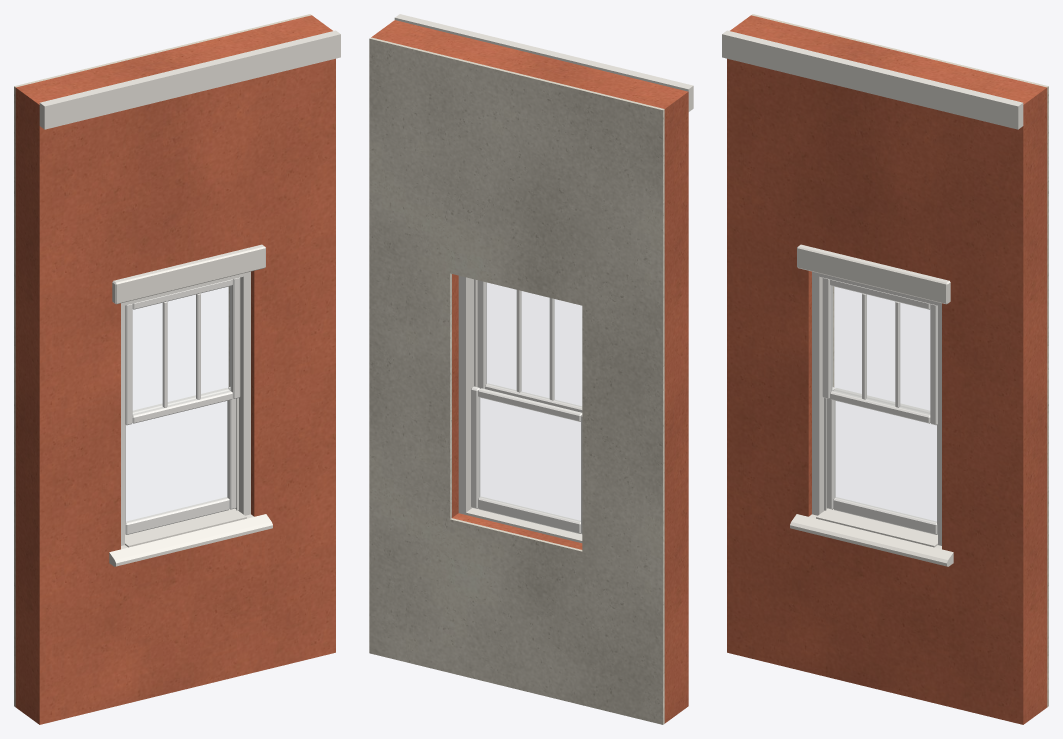
Rendered from wall_render_shop_window.glb.
The picture shows the model from 3 angles, left to right: view 1: azimuth 30°, elevation 25°; view 2: azimuth 150°, elevation 25°; view 3: azimuth 330°, elevation 25°; orthographic projection.
Parts seen in each view (by area): view 1: wall_render_shop_window_render, wall_render_shop_window_trim, folha_glass, wall_render_shop_window_glass, wall_render_shop_window_sash, wall_render_shop_window_frame, folha_sash, wall_render_shop_window_plaster; view 2: wall_render_shop_window_plaster, wall_render_shop_window_render, folha_glass, wall_render_shop_window_glass, folha_sash, wall_render_shop_window_frame, wall_render_shop_window_trim, wall_render_shop_window_sash; view 3: wall_render_shop_window_render, wall_render_shop_window_trim, folha_glass, wall_render_shop_window_glass, wall_render_shop_window_sash, wall_render_shop_window_frame, folha_sash, wall_render_shop_window_plaster.
Boxes of the visible parts, bbox=[...] form: wall_render_shop_window_render: bbox=[15, 15, 335, 724]; wall_render_shop_window_trim: bbox=[39, 30, 340, 566]; folha_glass: bbox=[126, 401, 227, 521]; wall_render_shop_window_glass: bbox=[133, 286, 231, 414]; wall_render_shop_window_sash: bbox=[125, 277, 240, 425]; wall_render_shop_window_frame: bbox=[121, 271, 250, 545]; folha_sash: bbox=[125, 387, 236, 534]; wall_render_shop_window_plaster: bbox=[14, 14, 311, 706]; wall_render_shop_window_plaster: bbox=[369, 37, 664, 724]; wall_render_shop_window_render: bbox=[371, 20, 688, 723]; folha_glass: bbox=[479, 398, 580, 521]; wall_render_shop_window_glass: bbox=[486, 283, 581, 406]; folha_sash: bbox=[471, 386, 582, 534]; wall_render_shop_window_frame: bbox=[458, 275, 477, 514]; wall_render_shop_window_trim: bbox=[394, 14, 693, 542]; wall_render_shop_window_sash: bbox=[477, 280, 582, 412]; wall_render_shop_window_render: bbox=[727, 15, 1047, 724]; wall_render_shop_window_trim: bbox=[722, 30, 1023, 566]; folha_glass: bbox=[835, 401, 936, 521]; wall_render_shop_window_glass: bbox=[831, 286, 929, 414]; wall_render_shop_window_sash: bbox=[822, 277, 937, 425]; wall_render_shop_window_frame: bbox=[812, 271, 941, 545]; folha_sash: bbox=[826, 387, 937, 534]; wall_render_shop_window_plaster: bbox=[751, 14, 1048, 706].
Bounding box in the file's own units: 2 × 4.01 × 0.38.
Materials: 6 (2 with a texture image).
